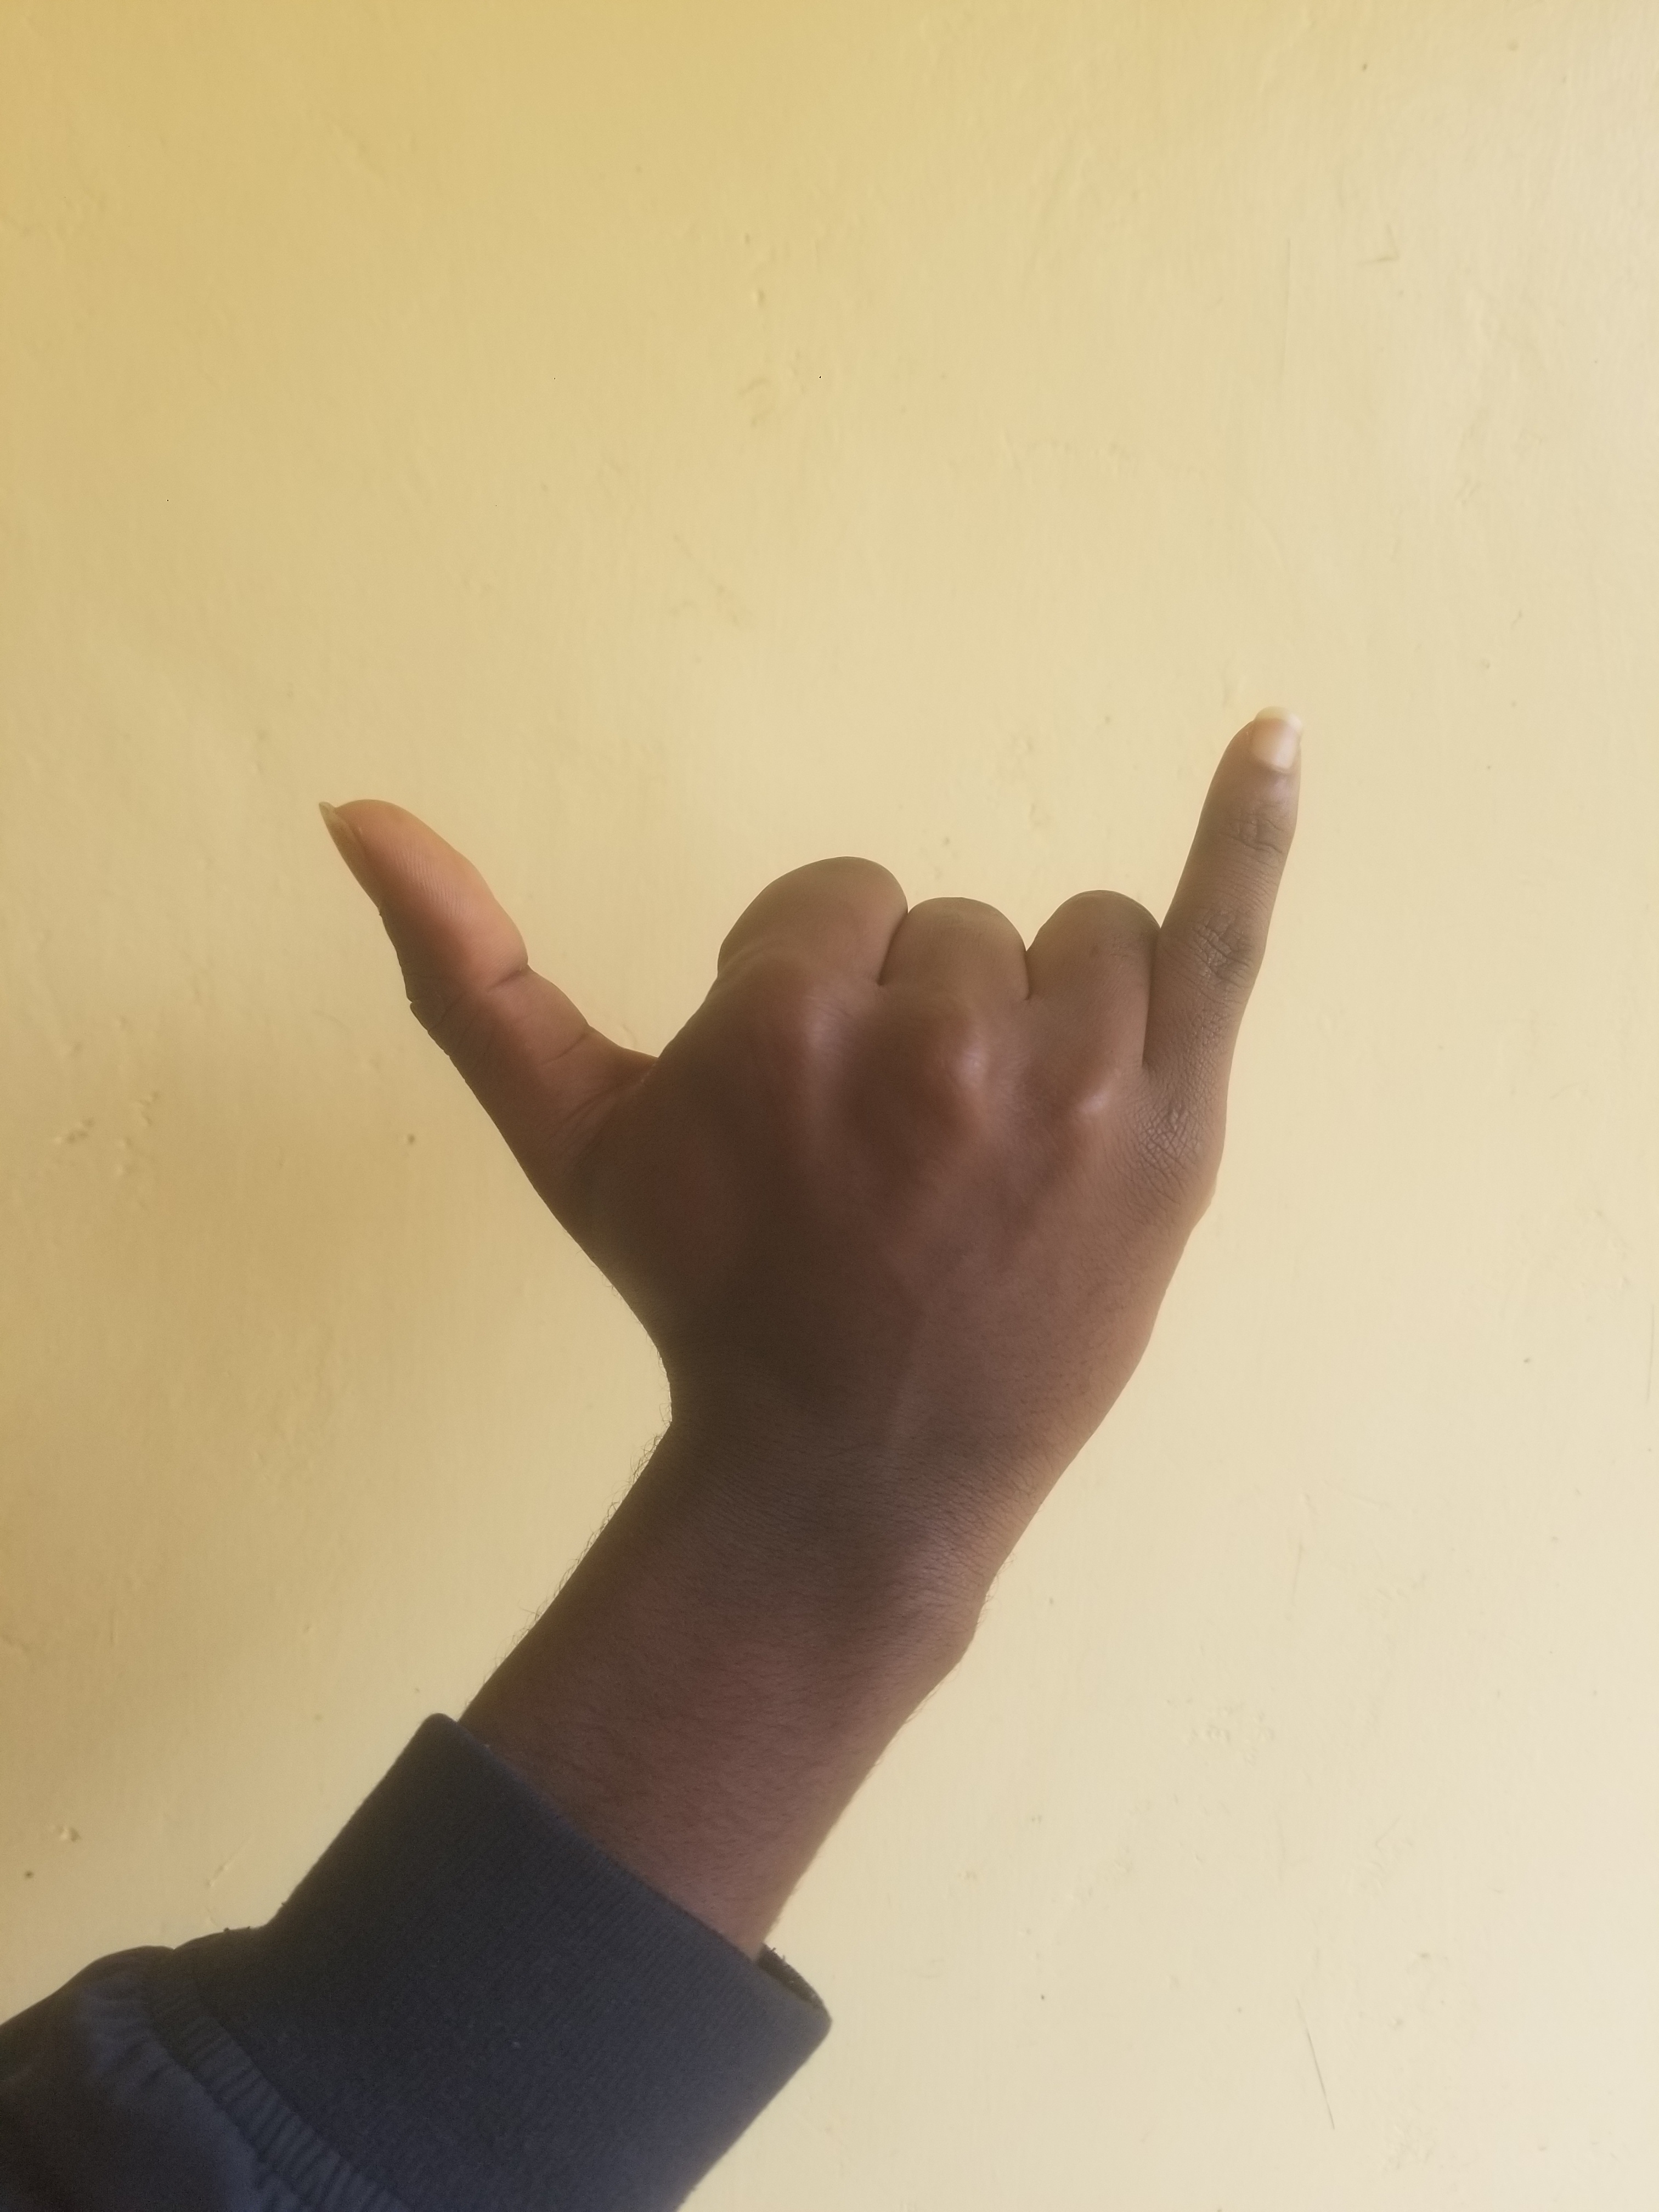call: (232, 583, 1575, 1723)
